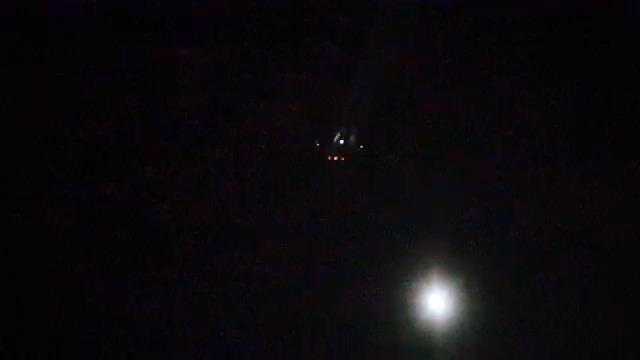Plane: (312, 105, 372, 171)
